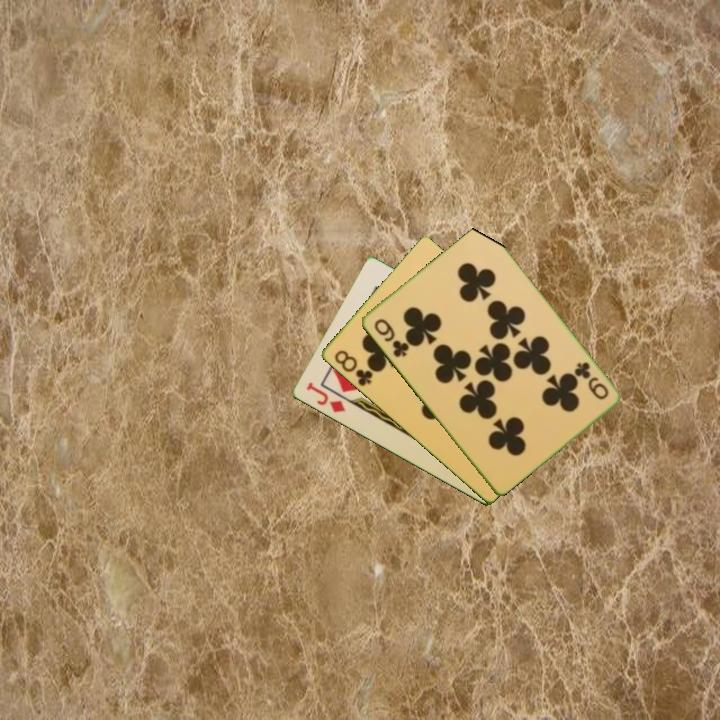8c: (330, 346, 375, 389)
9c: (370, 315, 411, 360), (570, 358, 611, 403)
Jd: (302, 379, 348, 416)
